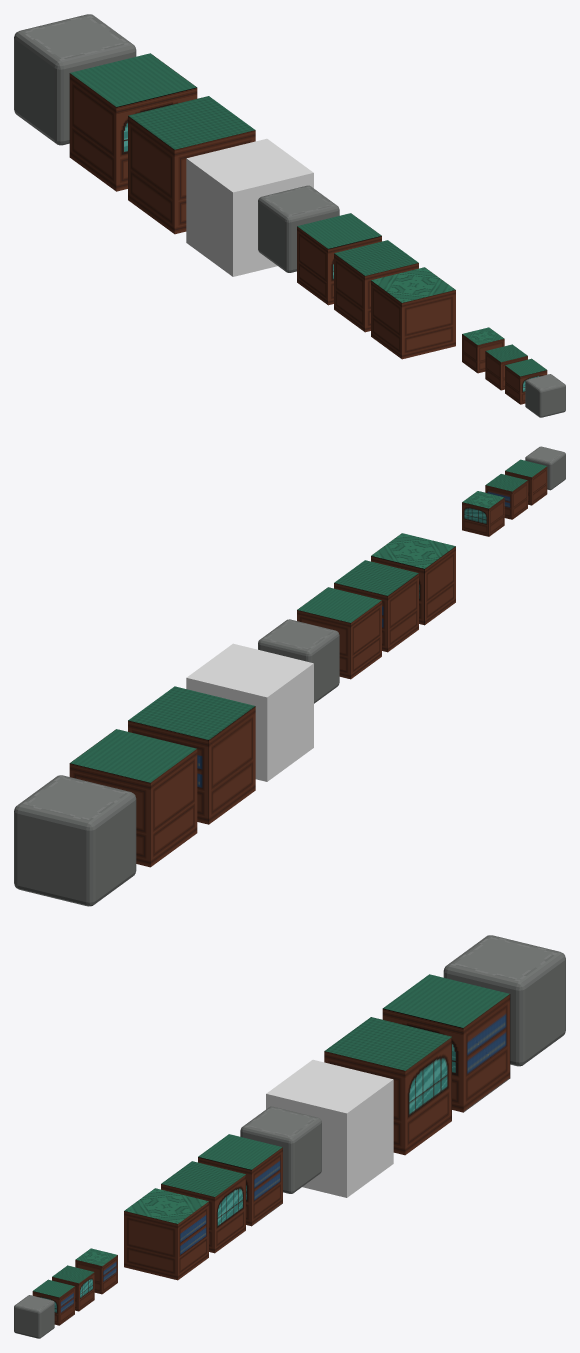
Rendered from New Block Set V2 Same Height.glb.
The picture shows the model from 3 angles, top to bottom: view 1: azimuth 30°, elevation 25°; view 2: azimuth 150°, elevation 25°; view 3: azimuth 330°, elevation 25°; orthographic projection.
Parts seen in each view (by area): view 1: Carpet_Floor_Fancy_X4, Carpet_Floor_Standard_X4, Carpet_Floor_Gingham_X4, Stone_Tile_X4, Carpet_Floor_Fancy-X2, Carpet_Floor_Gingham_X2, Carpet_Floor_Standard_X2, Stone_Tile_X2, Stone_Tile, Carpet_Floor_Fancy, Carpet_Floor_Standard, Carpet_Floor_Gingham; view 2: Stone_Tile_X4, Carpet_Floor_Standard_X4, Carpet_Floor_Gingham_X4, Carpet_Floor_Fancy_X4, Carpet_Floor_Standard_X2, Carpet_Floor_Gingham_X2, Carpet_Floor_Fancy-X2, Stone_Tile_X2, Carpet_Floor_Fancy, Carpet_Floor_Gingham, Carpet_Floor_Standard, Stone_Tile; view 3: Carpet_Floor_Fancy_X4, Carpet_Floor_Standard_X4, Carpet_Floor_Gingham_X4, Stone_Tile_X4, Carpet_Floor_Fancy-X2, Carpet_Floor_Gingham_X2, Carpet_Floor_Standard_X2, Stone_Tile_X2, Stone_Tile, Carpet_Floor_Fancy, Carpet_Floor_Standard, Carpet_Floor_Gingham.
Boxes of the visible parts, x1,y1,x2,y2 form: Carpet_Floor_Fancy_X4: (186,138,313,276); Carpet_Floor_Standard_X4: (69,53,197,191); Carpet_Floor_Gingham_X4: (128,96,255,234); Stone_Tile_X4: (14,14,136,145); Carpet_Floor_Fancy-X2: (371,267,455,359); Carpet_Floor_Gingham_X2: (334,240,418,332); Carpet_Floor_Standard_X2: (297,213,381,305); Stone_Tile_X2: (258,185,339,272); Stone_Tile: (525,374,565,417); Carpet_Floor_Fancy: (462,327,504,373); Carpet_Floor_Standard: (505,358,547,404); Carpet_Floor_Gingham: (485,344,527,390); Stone_Tile_X4: (14,775,136,906); Carpet_Floor_Standard_X4: (69,729,197,867); Carpet_Floor_Gingham_X4: (128,686,255,824); Carpet_Floor_Fancy_X4: (186,643,313,781); Carpet_Floor_Standard_X2: (297,587,381,679); Carpet_Floor_Gingham_X2: (334,560,418,652); Carpet_Floor_Fancy-X2: (371,533,455,625); Stone_Tile_X2: (258,619,339,703); Carpet_Floor_Fancy: (462,491,504,536); Carpet_Floor_Gingham: (485,474,527,519); Carpet_Floor_Standard: (505,459,547,505); Stone_Tile: (525,446,565,490); Carpet_Floor_Fancy_X4: (266,1059,393,1197); Carpet_Floor_Standard_X4: (382,974,510,1112); Carpet_Floor_Gingham_X4: (324,1017,451,1155); Stone_Tile_X4: (443,935,565,1066); Carpet_Floor_Fancy-X2: (124,1188,208,1280); Carpet_Floor_Gingham_X2: (161,1161,245,1253); Carpet_Floor_Standard_X2: (198,1134,282,1226); Stone_Tile_X2: (240,1106,321,1193); Stone_Tile: (14,1295,54,1338); Carpet_Floor_Fancy: (75,1248,117,1294); Carpet_Floor_Standard: (32,1279,74,1325); Carpet_Floor_Gingham: (52,1265,94,1311).
Size of what is drawn, in the model's own units: 24 by 24 by 258.
15 materials, 12 textured.
